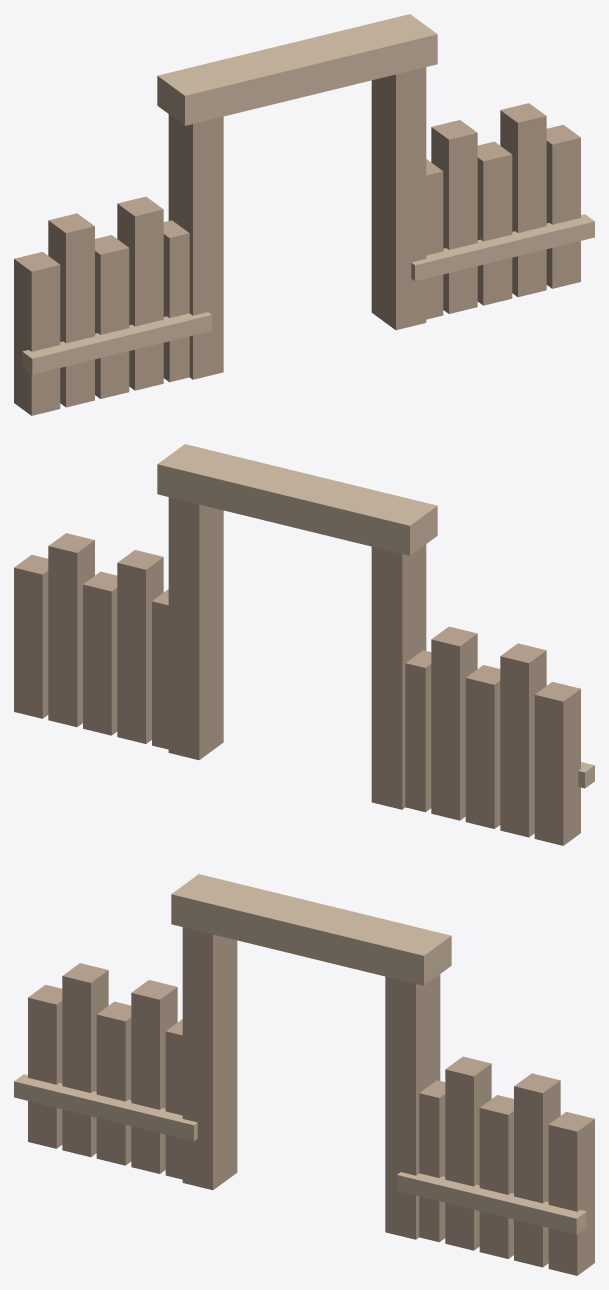
The model's file is gate.glb.
The picture shows the model from 3 angles, top to bottom: view 1: azimuth 30°, elevation 25°; view 2: azimuth 150°, elevation 25°; view 3: azimuth 330°, elevation 25°; orthographic projection.
Visible parts, largest first — view 1: gate_8C6B51, gate_AA8865; view 2: gate_8C6B51, gate_AA8865; view 3: gate_8C6B51, gate_AA8865.
Part boxes in pixels (bbox=[...]): gate_8C6B51: bbox=[14, 67, 580, 415]; gate_AA8865: bbox=[22, 14, 594, 374]; gate_8C6B51: bbox=[14, 497, 580, 845]; gate_AA8865: bbox=[157, 444, 594, 788]; gate_8C6B51: bbox=[28, 927, 594, 1275]; gate_AA8865: bbox=[14, 874, 586, 1234].
Bounding box in the file's own units: 2.94 × 1.43 × 0.27.
